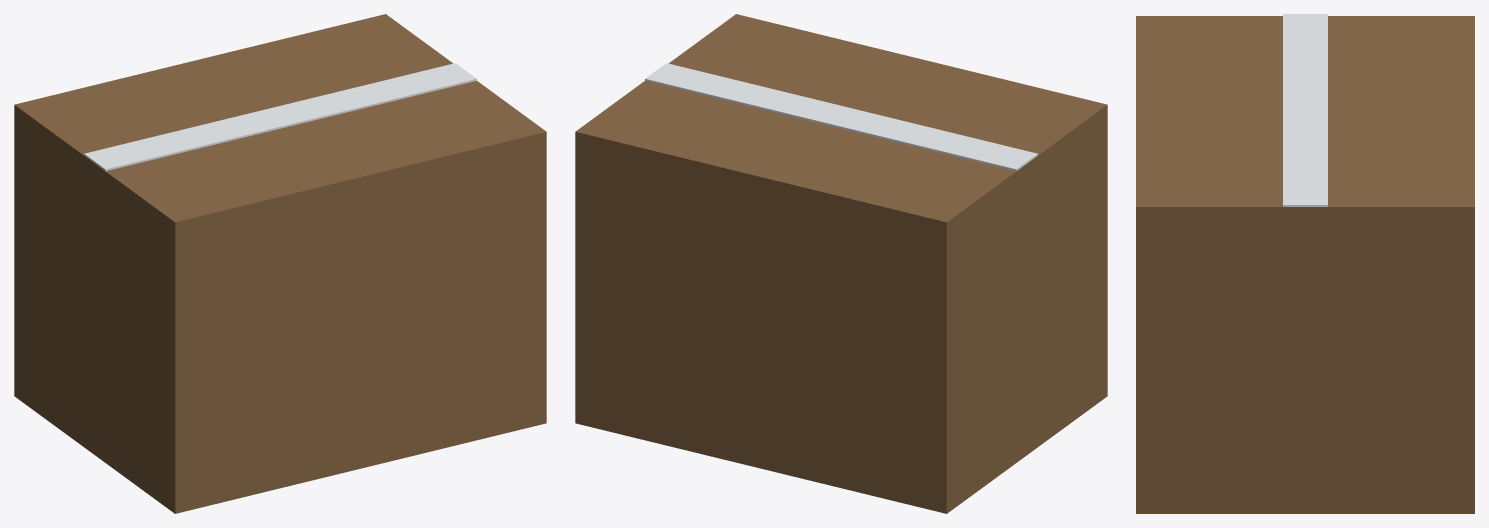
Rendered from prop_box.glb.
3 views of the same model, side by side, from view 1: azimuth 30°, elevation 25°; view 2: azimuth 150°, elevation 25°; view 3: azimuth 270°, elevation 25° (orthographic). The views are drawn at different scales.
Parts seen in each view (by area): view 1: prop_box-col; view 2: prop_box-col; view 3: prop_box-col.
Boxes of the visible parts, x1=… form: prop_box-col: x1=14, y1=14, x2=546, y2=513; prop_box-col: x1=575, y1=14, x2=1107, y2=513; prop_box-col: x1=1136, y1=14, x2=1474, y2=513.
Bounding box in the file's own units: 0.4 × 0.302 × 0.3.
